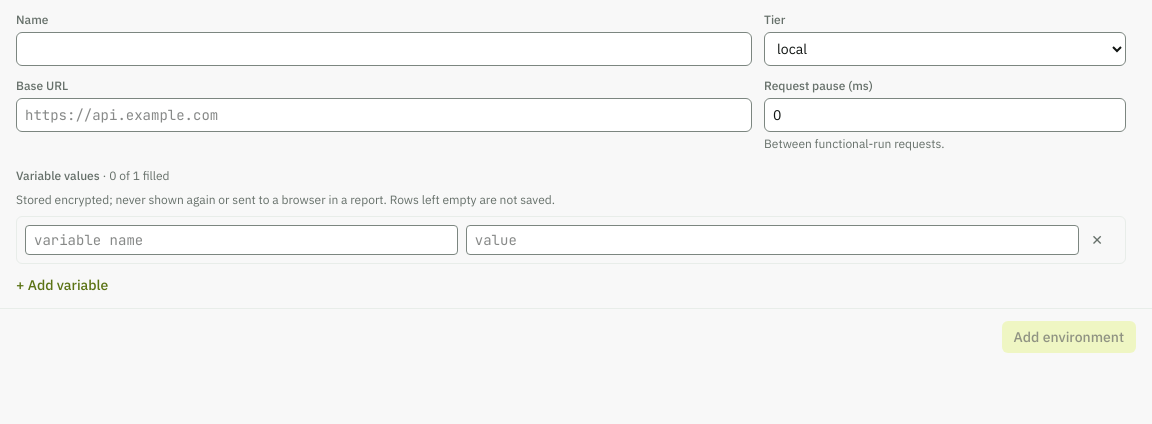
Scenario: EnvironmentForm › shows a save error
The width and height of the screenshot is (1152, 424).
Type "perf-local" into the field labelled "Name" at (384, 49), box [16,32,752,66]
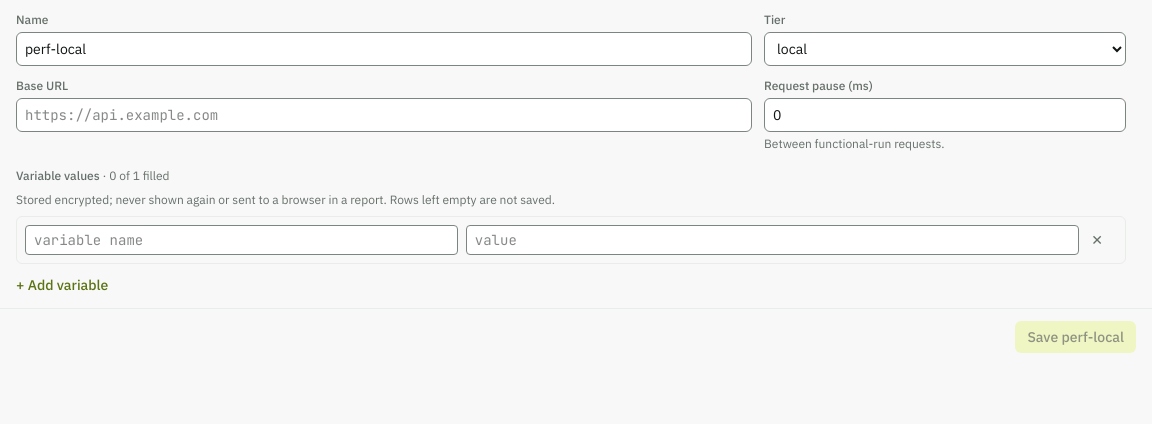
Type "http://x" into the field labelled "Base URL" at (384, 115), box [16,98,752,132]
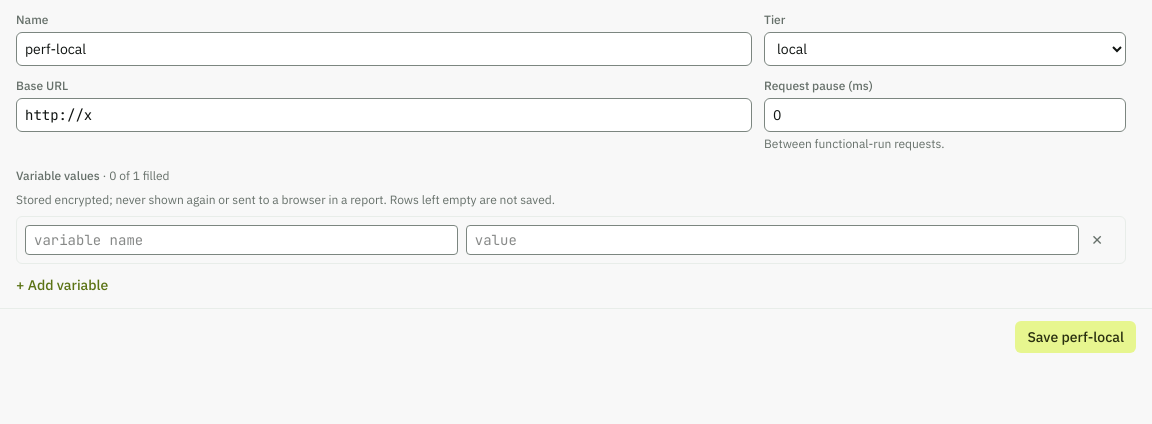
Click the button "Save perf-local" at (1076, 337), box [1015,321,1136,353]
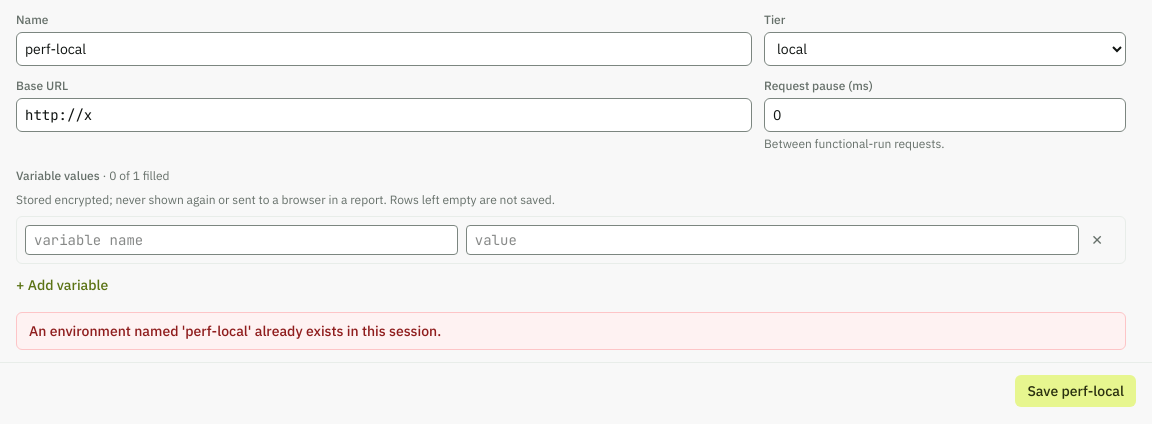
Expected: the message shows "already exists", [29,322,441,340]
